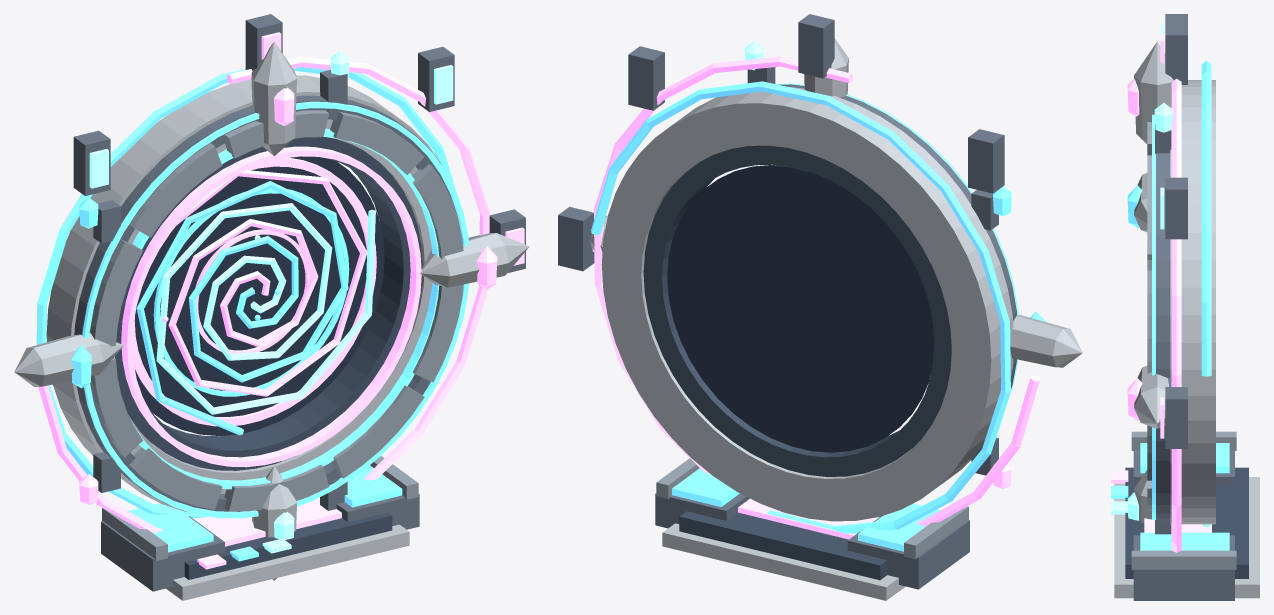
Rendered from astral_nexus.glb.
3 views of the same model, side by side, from view 1: azimuth 30°, elevation 25°; view 2: azimuth 150°, elevation 25°; view 3: azimuth 270°, elevation 25° (orthographic). The views are drawn at different scales.
Visible parts, largest first — view 1: MATERIAL_violet, MATERIAL_silver, MATERIAL_blue, MATERIAL_black, MATERIAL_steel, MATERIAL_gunmetal, MATERIAL_dark, MATERIAL_cyan; view 2: MATERIAL_silver, MATERIAL_black, MATERIAL_dark, MATERIAL_gunmetal, MATERIAL_blue, MATERIAL_violet, MATERIAL_steel; view 3: MATERIAL_silver, MATERIAL_gunmetal, MATERIAL_blue, MATERIAL_violet, MATERIAL_steel, MATERIAL_dark, MATERIAL_cyan.
Boxes of the visible parts, x1=… form: MATERIAL_violet: x1=38, y1=32, x2=524, y2=569; MATERIAL_silver: x1=14, y1=41, x2=529, y2=600; MATERIAL_blue: x1=36, y1=59, x2=468, y2=561; MATERIAL_black: x1=134, y1=156, x2=384, y2=435; MATERIAL_steel: x1=90, y1=110, x2=463, y2=560; MATERIAL_gunmetal: x1=73, y1=14, x2=525, y2=591; MATERIAL_dark: x1=115, y1=137, x2=422, y2=579; MATERIAL_cyan: x1=89, y1=51, x2=453, y2=553; MATERIAL_silver: x1=590, y1=38, x2=1082, y2=600; MATERIAL_black: x1=667, y1=165, x2=934, y2=452; MATERIAL_dark: x1=643, y1=145, x2=951, y2=580; MATERIAL_gunmetal: x1=558, y1=14, x2=1017, y2=589; MATERIAL_blue: x1=591, y1=81, x2=1046, y2=551; MATERIAL_violet: x1=591, y1=56, x2=1039, y2=539; MATERIAL_steel: x1=656, y1=458, x2=968, y2=559; MATERIAL_silver: x1=1114, y1=42, x2=1259, y2=598; MATERIAL_gunmetal: x1=1133, y1=14, x2=1234, y2=600; MATERIAL_blue: x1=1111, y1=60, x2=1229, y2=550; MATERIAL_violet: x1=1111, y1=33, x2=1211, y2=552; MATERIAL_steel: x1=1131, y1=121, x2=1236, y2=569; MATERIAL_dark: x1=1125, y1=467, x2=1248, y2=578; MATERIAL_cyan: x1=1111, y1=24, x2=1173, y2=520.
Size of the model in its own units: 7.74 by 7.91 by 1.99.
